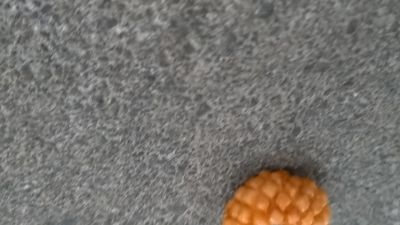eggs: (224, 168, 332, 225)
